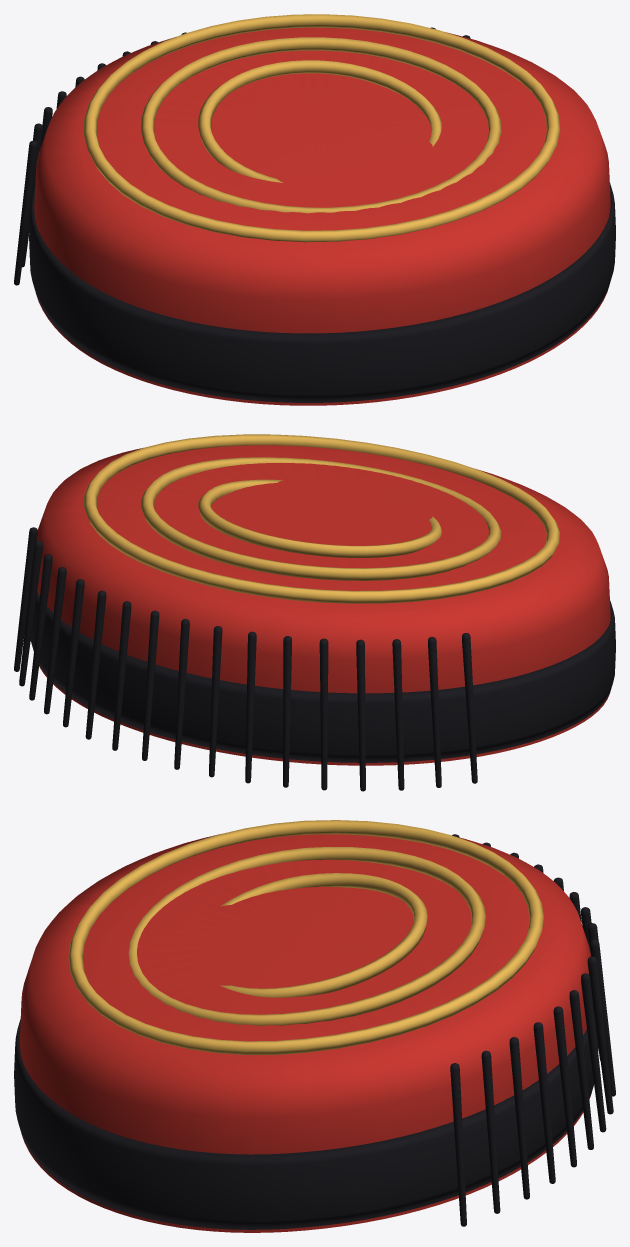
Rendered from hw_capa.glb.
3 views of the same model, one above another, from view 1: azimuth 30°, elevation 25°; view 2: azimuth 150°, elevation 25°; view 3: azimuth 270°, elevation 25° (orthographic). The views are drawn at different scales.
Parts seen in each view (by area): view 1: hw_capa, hw_capa_side, hw_capa@gold_g, hw_capa@fringe_f; view 2: hw_capa, hw_capa_side, hw_capa@gold_g, hw_capa@fringe_f; view 3: hw_capa, hw_capa_side, hw_capa@gold_g, hw_capa@fringe_f.
Part boxes in pixels (x1,y1,x2,y2): hw_capa: [34, 27, 610, 405]; hw_capa_side: [29, 183, 615, 402]; hw_capa@gold_g: [84, 14, 560, 242]; hw_capa@fringe_f: [14, 27, 470, 285]; hw_capa: [37, 445, 610, 765]; hw_capa_side: [30, 592, 615, 762]; hw_capa@gold_g: [84, 434, 560, 603]; hw_capa@fringe_f: [14, 527, 477, 791]; hw_capa: [19, 834, 591, 1232]; hw_capa_side: [14, 1007, 598, 1229]; hw_capa@gold_g: [68, 820, 543, 1054]; hw_capa@fringe_f: [450, 834, 615, 1226].
Bounding box in the file's own units: 0.7197 × 0.2478 × 0.6633.
